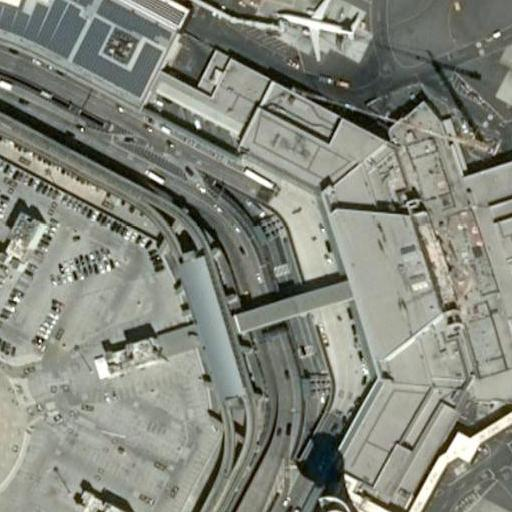Aircraft: (278, 0, 356, 57)
